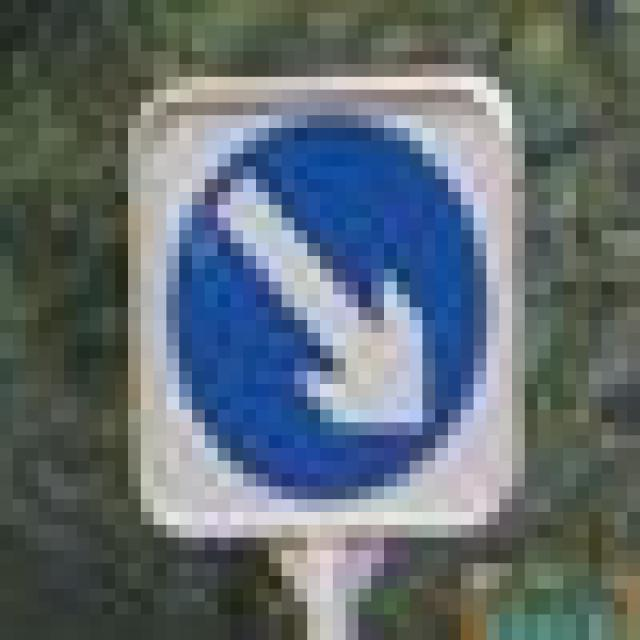compulsory_keep_left: (102, 52, 538, 550)
